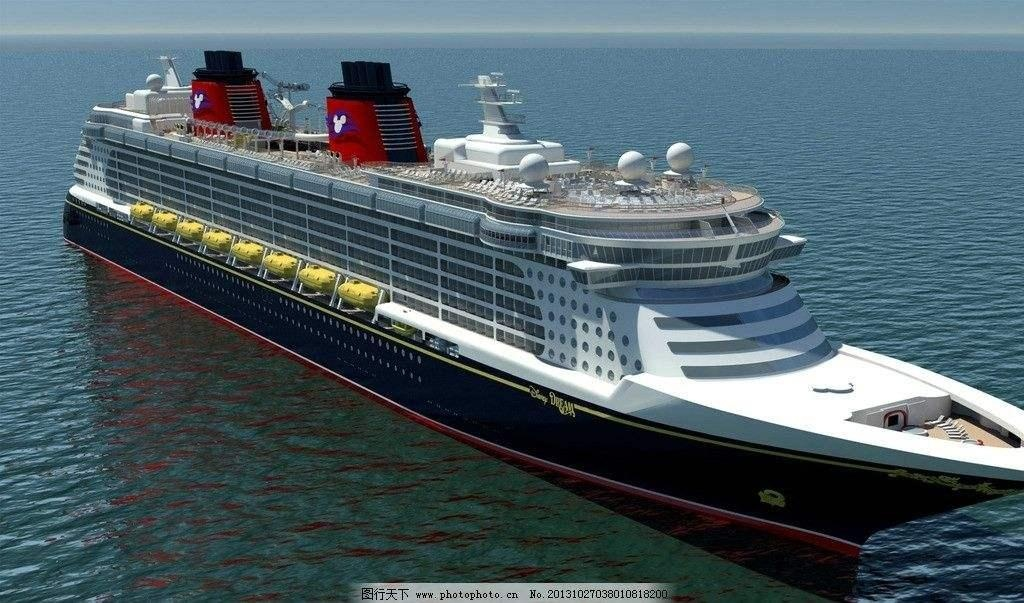youlun: (60, 44, 1024, 586)
